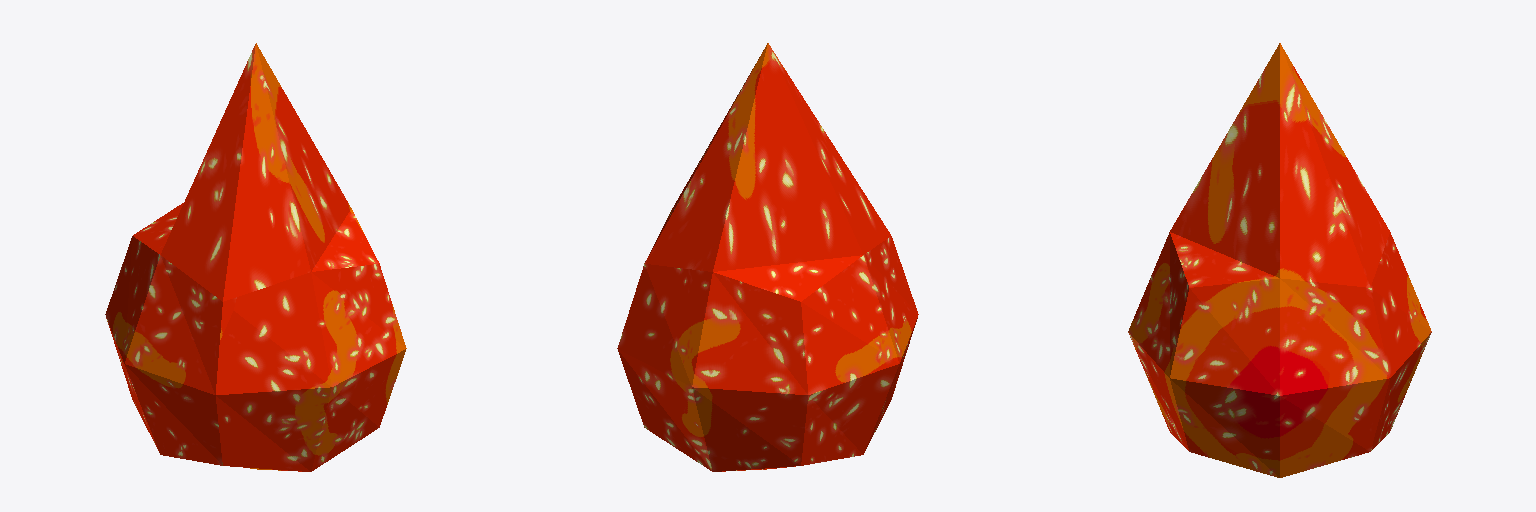
3 renders of one model, left to right at view 1: azimuth 30°, elevation 25°; view 2: azimuth 150°, elevation 25°; view 3: azimuth 270°, elevation 25°, orthographic.
Visible parts, largest first — view 1: Cube; view 2: Cube; view 3: Cube.
Boxes of the visible parts, x1,y1,x2,y2 form: Cube: [105, 43, 406, 471]; Cube: [617, 43, 918, 471]; Cube: [1128, 43, 1431, 477].
Bounding box in the file's own units: 1.68 × 2.6 × 1.68.
1 materials, 1 textured.